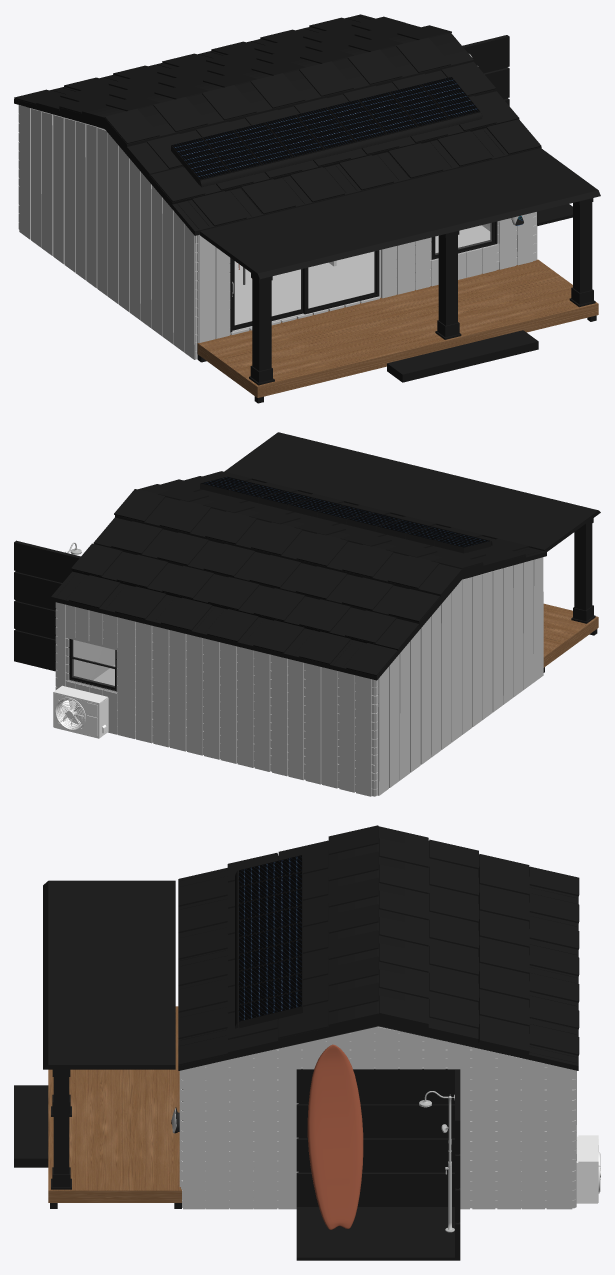
The model's file is 400Sqft.glb.
3 views of the same model, one above another, from view 1: azimuth 30°, elevation 25°; view 2: azimuth 150°, elevation 25°; view 3: azimuth 270°, elevation 25° (orthographic). The views are drawn at different scales.
Visible parts, largest first — view 1: Asphalt_Roof, Vertical_Wall_Pattern, Frontal_Roof, Wooden_Base, Pillars, House_Base, Wooden_Step, Glass01, Shower_BAse, Solar_Holder, Glass02, Horizontal_Wall_Pattern (+15 smaller); view 2: Vertical_Wall_Pattern, Asphalt_Roof, Frontal_Roof, Shower_BAse, Horizontal_Wall_Pattern, polySurface7084, Wooden_Base, Pillars, Ac_Outer_Shield, polySurface7074, Outer_Wall, polySurface7073 (+1 smaller); view 3: Asphalt_Roof, Vertical_Wall_Pattern, Frontal_Roof, Shower_BAse, Wooden_Base, Board, Horizontal_Wall_Pattern, Wooden_Step, Pillars, polySurface7084, Metal_Roof_Sheet, polySurface7080 (+11 smaller).
Boxes of the visible parts, x1,y1,x2,y2 form: Asphalt_Roof: (14, 14, 541, 235); Vertical_Wall_Pattern: (19, 105, 537, 359); Frontal_Roof: (200, 148, 600, 279); Wooden_Base: (197, 259, 598, 397); Pillars: (249, 198, 595, 385); House_Base: (234, 225, 490, 325); Wooden_Step: (387, 330, 538, 382); Glass01: (308, 252, 374, 307); Shower_BAse: (462, 35, 572, 225); Solar_Holder: (200, 112, 482, 187); Glass02: (235, 262, 300, 324); Horizontal_Wall_Pattern: (18, 105, 536, 359); Vertical_Wall_Pattern: (57, 557, 543, 796); Asphalt_Roof: (51, 471, 546, 680); Frontal_Roof: (224, 432, 600, 551); Shower_BAse: (14, 540, 80, 671); Horizontal_Wall_Pattern: (55, 602, 378, 796); polySurface7084: (200, 477, 490, 553); Wooden_Base: (543, 603, 598, 667); Pillars: (571, 518, 595, 623); Ac_Outer_Shield: (53, 693, 108, 738); polySurface7074: (72, 640, 114, 686); Outer_Wall: (66, 638, 375, 796); polySurface7073: (68, 639, 116, 691); Asphalt_Roof: (178, 825, 579, 1070); Vertical_Wall_Pattern: (179, 1026, 576, 1209); Frontal_Roof: (43, 880, 175, 1069); Shower_BAse: (296, 1069, 460, 1260); Wooden_Base: (48, 1006, 181, 1202); Board: (307, 1044, 363, 1229); Horizontal_Wall_Pattern: (181, 1026, 575, 1207); Wooden_Step: (14, 1085, 48, 1167); Pillars: (51, 1069, 71, 1189); polySurface7084: (238, 855, 302, 1028); Metal_Roof_Sheet: (180, 870, 576, 1063); polySurface7080: (239, 922, 301, 953).
Bounding box in the file's own units: 0.1091 × 0.0425 × 0.114.
13 materials, 3 textured.
